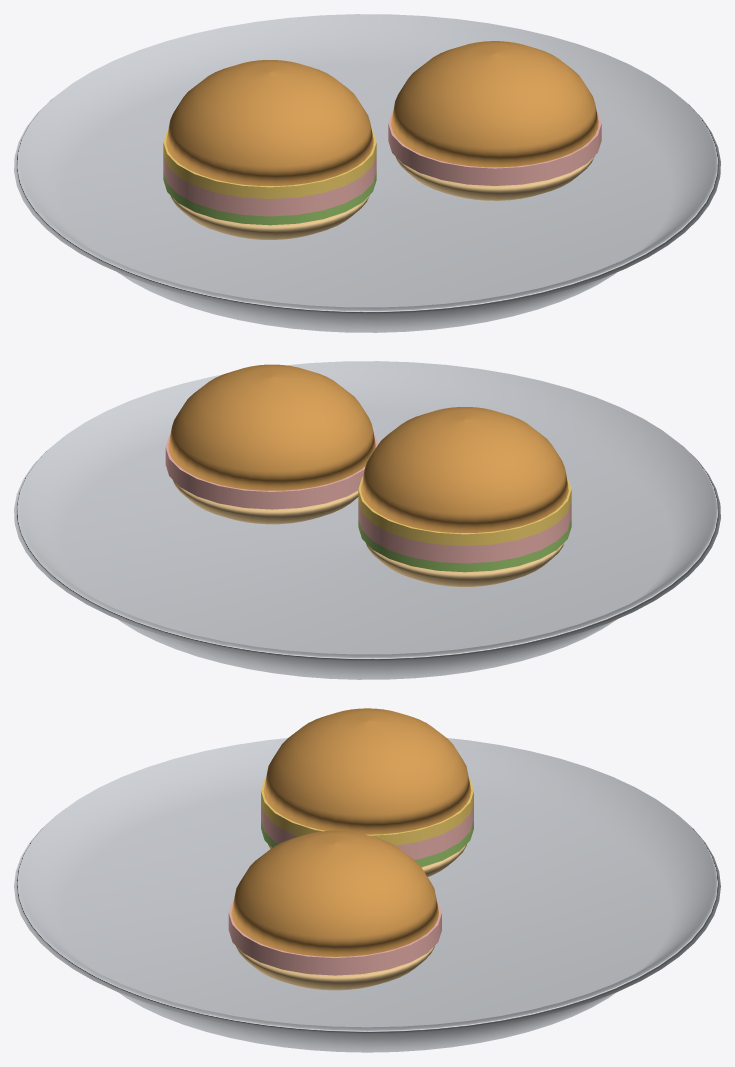
File: alba-mini-panino-farcito.glb
3 renders of one model, top to bottom at view 1: azimuth 30°, elevation 25°; view 2: azimuth 150°, elevation 25°; view 3: azimuth 270°, elevation 25°, orthographic.
Bounding box in the file's own units: 0.22 × 0.0555 × 0.22.
